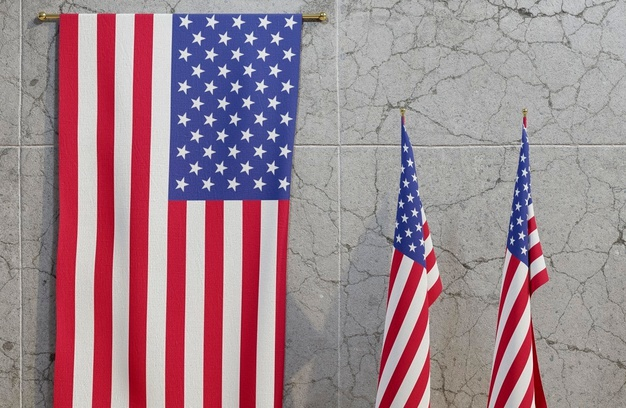America flag: (64, 16, 304, 408), (489, 134, 556, 408), (384, 129, 436, 408)
